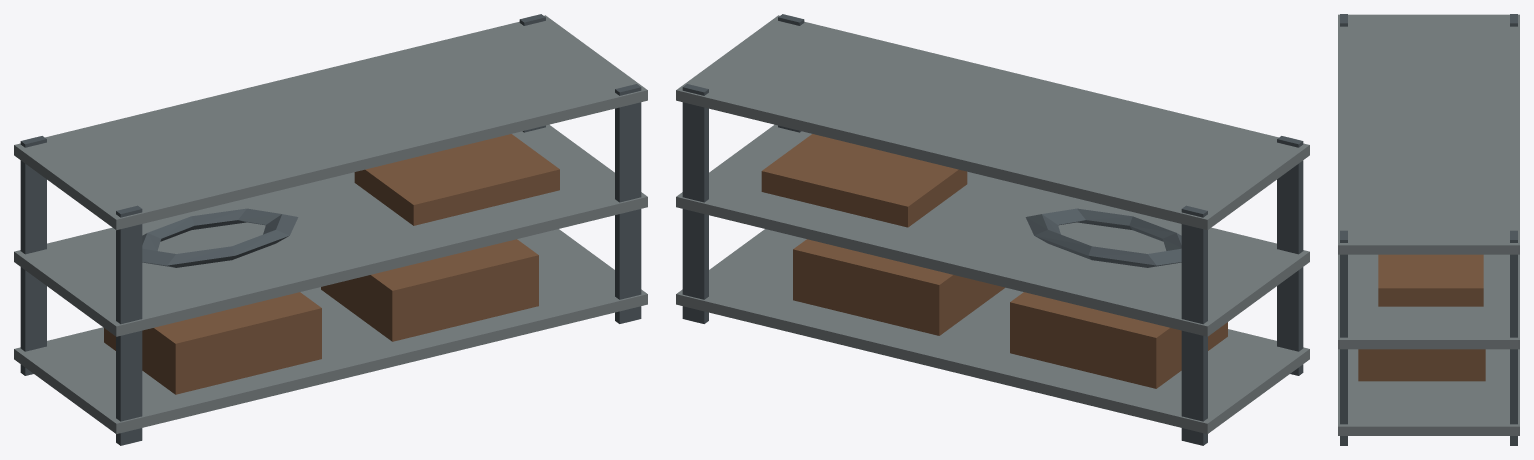
Rendered from hardware_rack.glb.
3 views of the same model, side by side, from view 1: azimuth 30°, elevation 25°; view 2: azimuth 150°, elevation 25°; view 3: azimuth 270°, elevation 25° (orthographic). The views are drawn at different scales.
Parts seen in each view (by area): view 1: hardware_rack; view 2: hardware_rack; view 3: hardware_rack.
Boxes of the visible parts, box(x1,y1,x2,y2) form: hardware_rack: box(14, 14, 647, 445); hardware_rack: box(676, 14, 1309, 445); hardware_rack: box(1338, 14, 1519, 445).
Bounding box in the file's own units: 2.88 × 1.2 × 0.96.
